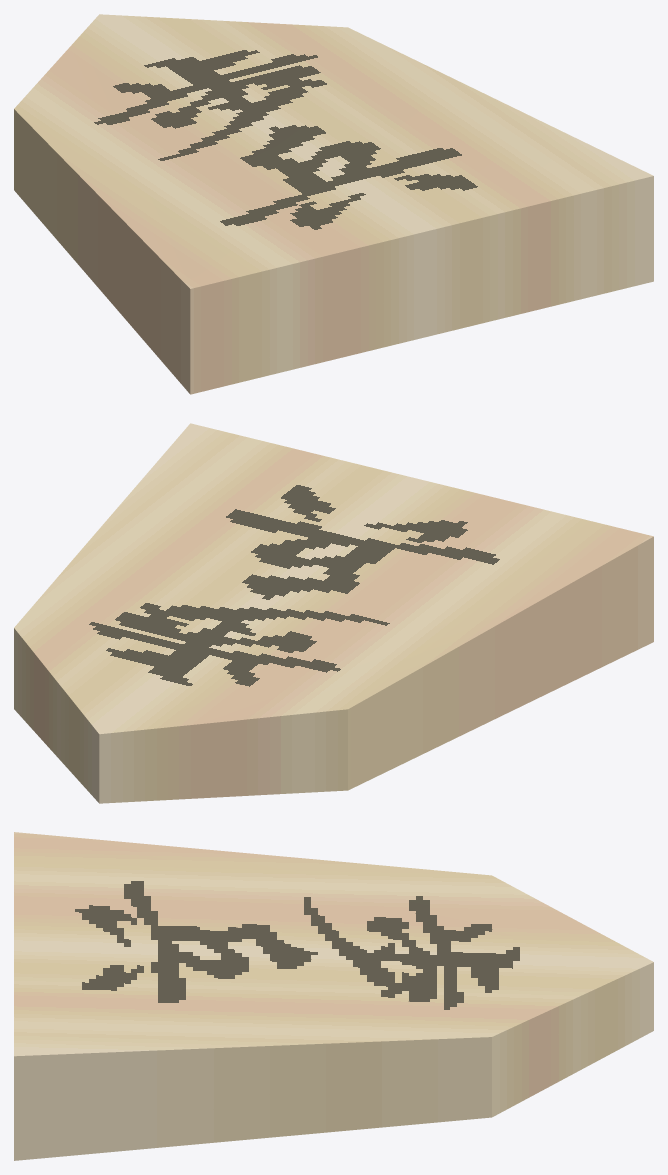
3 renders of one model, top to bottom at view 1: azimuth 30°, elevation 25°; view 2: azimuth 150°, elevation 25°; view 3: azimuth 270°, elevation 25°, orthographic.
Parts seen in each view (by area): view 1: part_0; view 2: part_0; view 3: part_0.
Boxes of the visible parts, x1,y1,x2,y2 form: part_0: [14, 14, 653, 394]; part_0: [14, 423, 653, 803]; part_0: [14, 832, 653, 1160].
Bounding box in the file's own units: 0.0205 × 0.00446 × 0.0247.
1 material, 1 textured.
